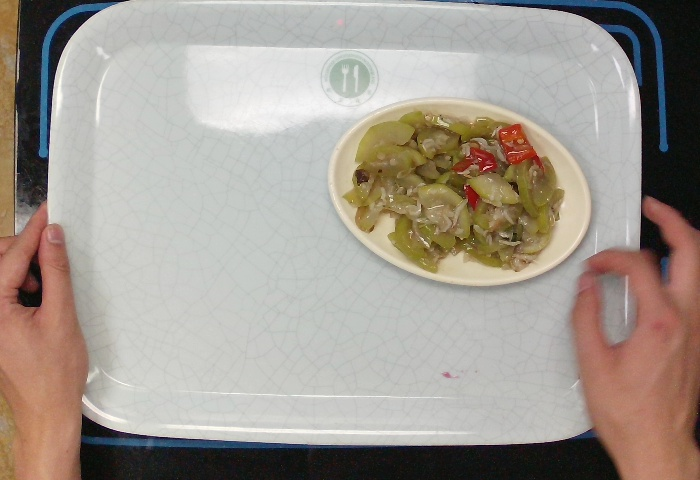JYsf-Tuo_Yuan_Wan: (323, 94, 594, 290)
